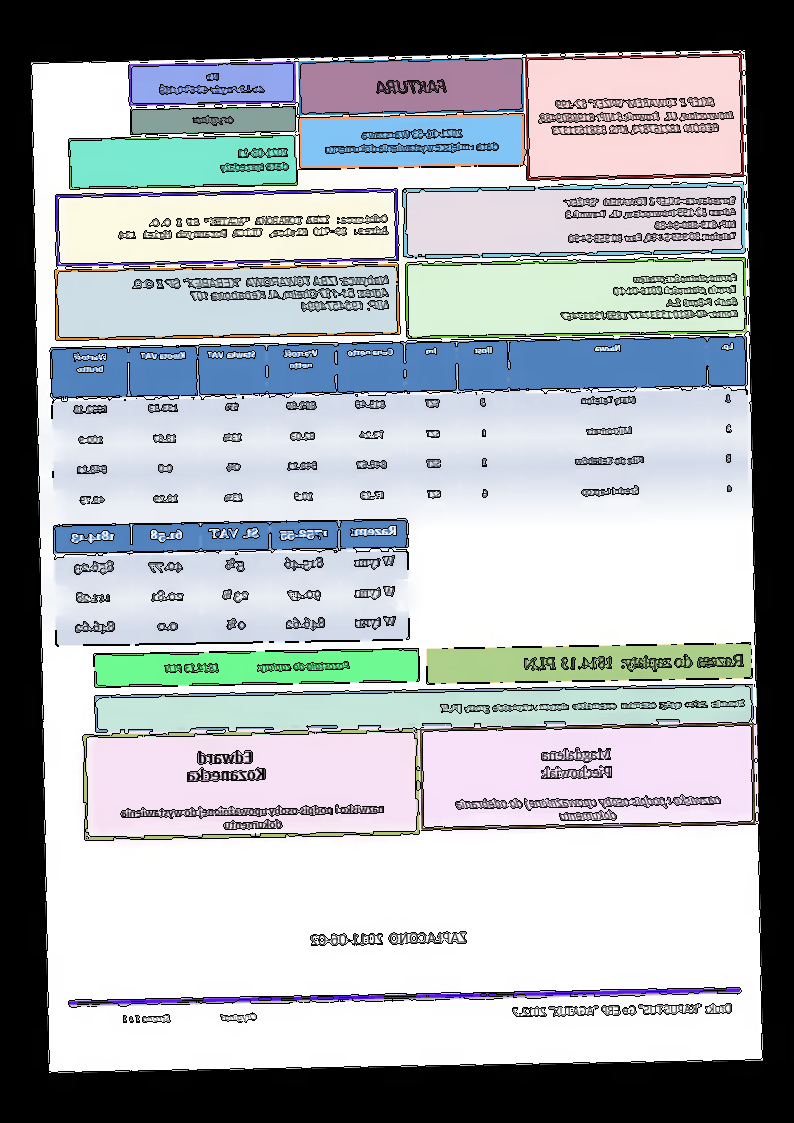Table: (48, 333, 753, 522), (51, 519, 412, 649)
TextBox: (126, 269, 394, 318), (558, 269, 741, 327), (117, 798, 388, 836), (115, 209, 391, 246), (563, 191, 740, 247), (451, 790, 726, 825), (534, 93, 738, 140), (435, 690, 750, 718), (524, 648, 749, 676), (509, 998, 738, 1024), (322, 123, 502, 156), (303, 923, 471, 954), (159, 655, 353, 679), (183, 742, 269, 788), (155, 68, 267, 101), (538, 744, 616, 785), (119, 1006, 261, 1027), (218, 142, 293, 179), (375, 74, 450, 98), (189, 113, 236, 129)
